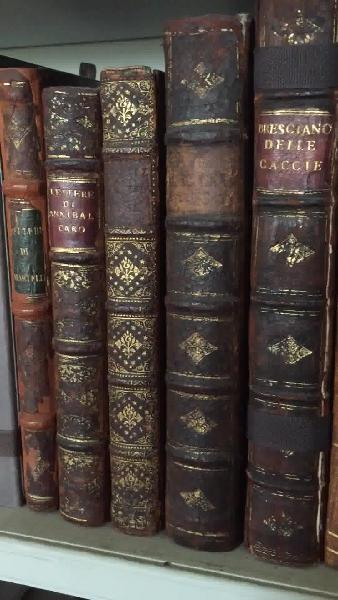Aa6-28: (1, 66, 60, 508)
Aa6-29: (40, 84, 115, 523)
Aa6-30: (104, 63, 150, 535)
Aa6-31: (162, 18, 246, 551)
Aa6-32: (249, 8, 338, 583)
